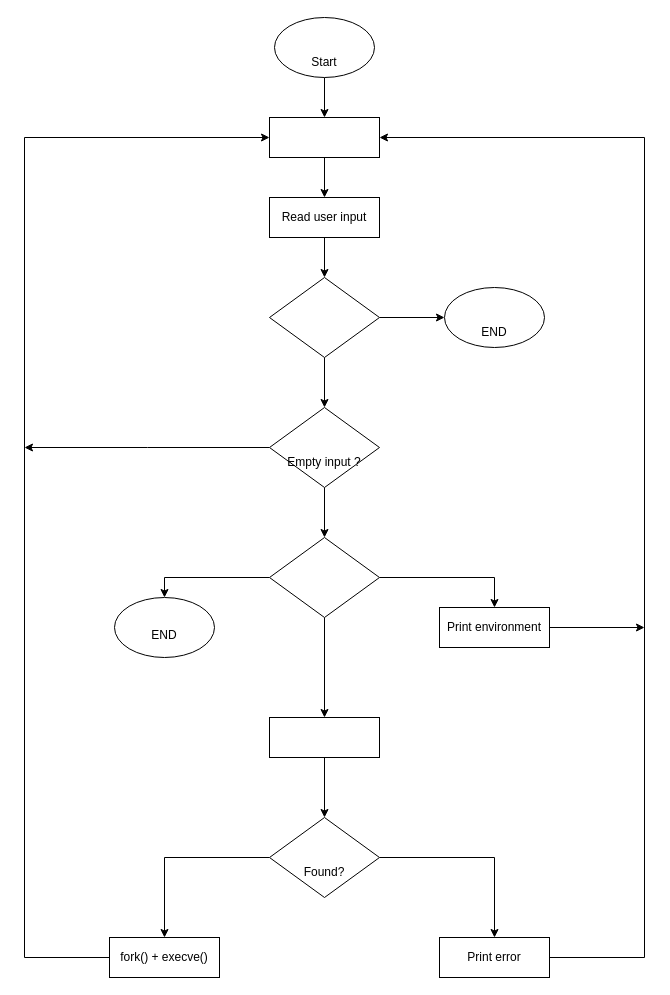
Some shapes in this 670 by 995 pixel diagram are drawn without their labels. Here are the shapes that lost their labels. From the top down, the centre of each, then its label:
At (324,137): "display prompt".
At (324,317): "EOF?".
At (324,577): "Built-in Command?".
At (324,737): "Find command in PATH".
